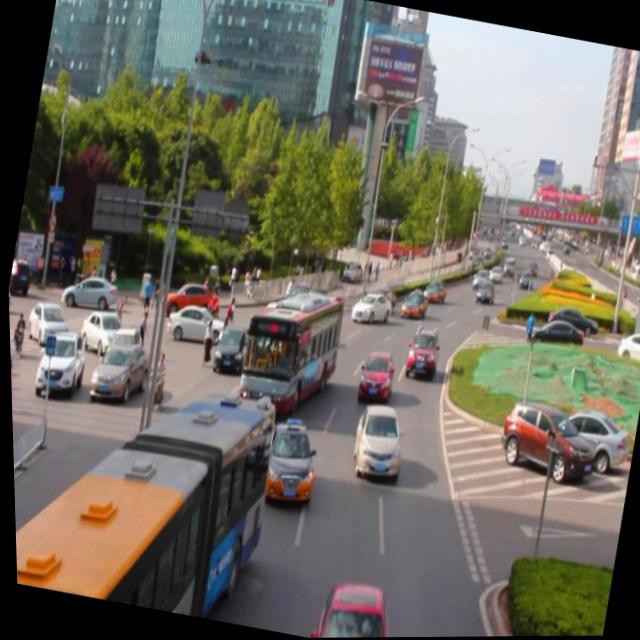car: (257, 412, 321, 503), (309, 575, 392, 638), (344, 399, 407, 482), (162, 297, 229, 348), (280, 302, 325, 358), (399, 324, 441, 382), (206, 324, 249, 379), (253, 321, 300, 371), (353, 348, 395, 402), (347, 288, 391, 326), (249, 302, 286, 347), (361, 282, 398, 312), (396, 287, 428, 321), (419, 276, 448, 307)
van: (8, 348, 279, 626), (233, 282, 347, 417)
